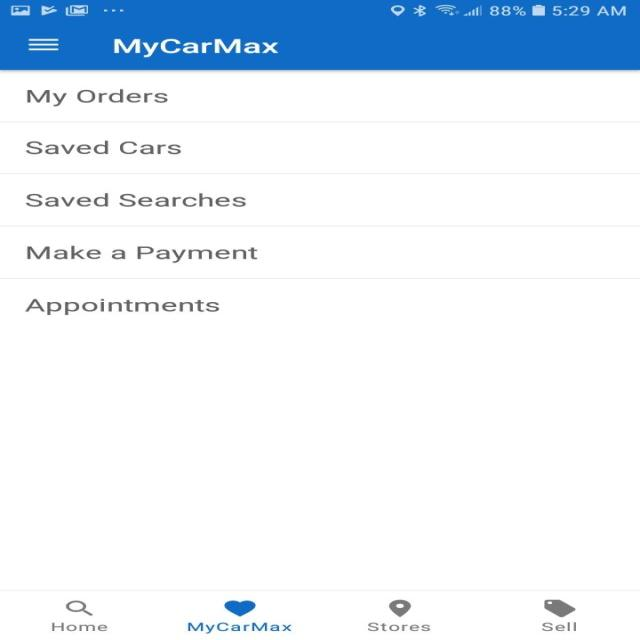Icon: (542, 598, 575, 617), (223, 600, 256, 616), (64, 600, 94, 616), (27, 38, 59, 51), (388, 599, 410, 617)
Text: (26, 244, 258, 263), (24, 298, 220, 315), (25, 192, 246, 207), (112, 39, 278, 58), (26, 88, 168, 106), (25, 140, 182, 155), (186, 621, 292, 634), (366, 621, 430, 631), (52, 621, 108, 631), (540, 622, 576, 632)
